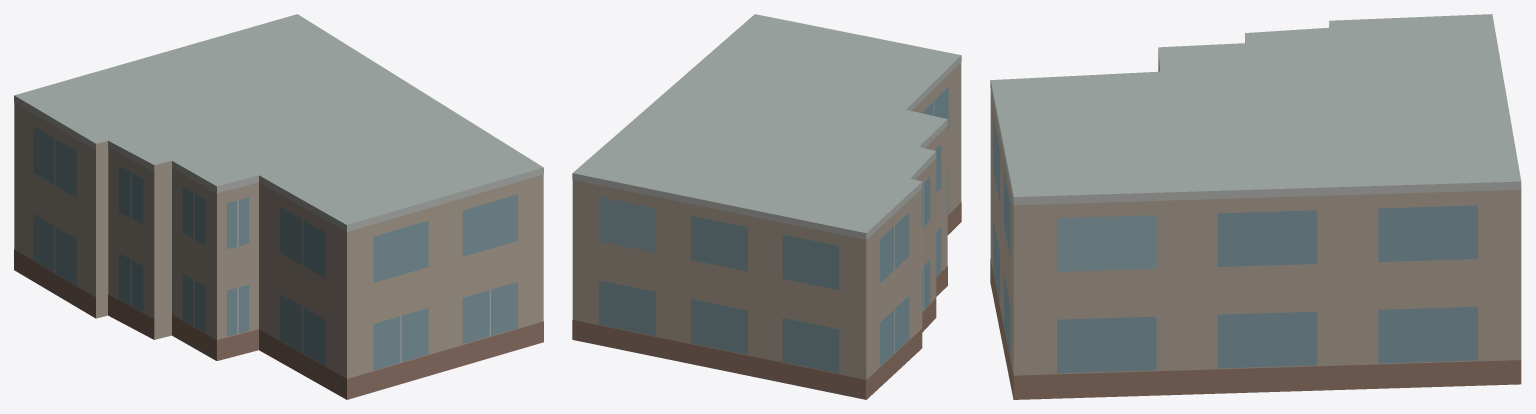
The model's file is survey-upis-32619310.glb.
3 views of the same model, side by side, from view 1: azimuth 30°, elevation 25°; view 2: azimuth 150°, elevation 25°; view 3: azimuth 270°, elevation 25° (orthographic). The views are drawn at different scales.
Visible parts, largest first — view 1: survey-upis-32619310.tmp; view 2: survey-upis-32619310.tmp; view 3: survey-upis-32619310.tmp.
Part boxes in pixels (x1=…): survey-upis-32619310.tmp: x1=14, y1=14, x2=543, y2=399; survey-upis-32619310.tmp: x1=572, y1=14, x2=961, y2=399; survey-upis-32619310.tmp: x1=990, y1=14, x2=1521, y2=399.
Size of the model in its own units: 11.82 by 6.1 by 14.48.
